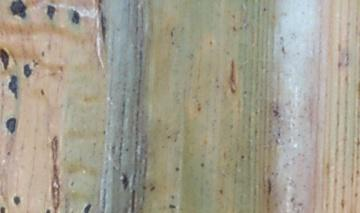tarspot: (6, 1, 32, 25), (5, 72, 21, 100), (3, 113, 21, 137), (117, 170, 131, 193), (20, 62, 36, 81), (43, 2, 58, 22), (9, 191, 24, 210), (68, 9, 83, 26), (1, 46, 9, 74), (236, 151, 249, 164), (79, 201, 93, 213), (196, 159, 208, 172), (38, 86, 49, 99), (166, 201, 178, 212), (172, 164, 182, 174), (42, 206, 53, 213), (1, 204, 7, 213)
